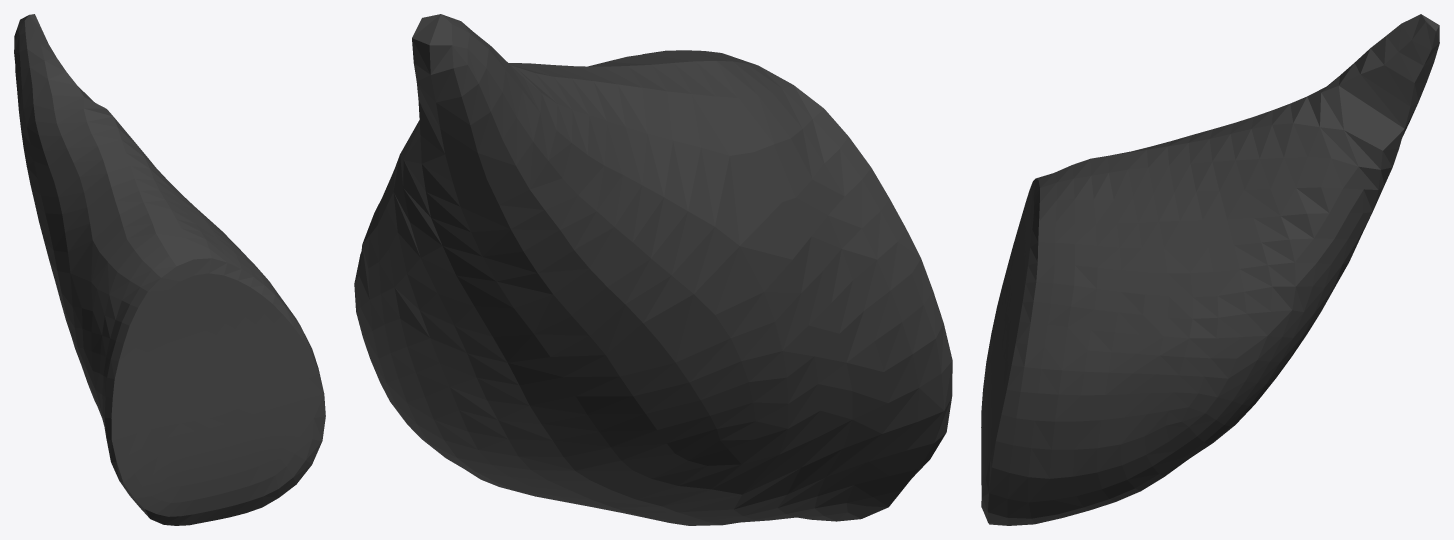
Rendered from digastricus_c.glb.
The picture shows the model from 3 angles, left to right: view 1: azimuth 30°, elevation 25°; view 2: azimuth 150°, elevation 25°; view 3: azimuth 270°, elevation 25°; orthographic projection. The views are drawn at different scales.
Parts seen in each view (by area): view 1: digastricus_c; view 2: digastricus_c; view 3: digastricus_c.
Boxes of the visible parts, bbox=[...] form: digastricus_c: bbox=[14, 14, 325, 525]; digastricus_c: bbox=[354, 14, 952, 525]; digastricus_c: bbox=[981, 14, 1439, 525].
Size of the model in its own units: 0.306 by 0.505 by 0.4418.
1 material, 1 textured.
